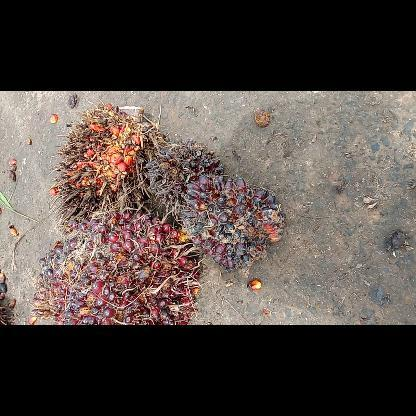TBS abnormal: (180, 172, 286, 272), (142, 138, 226, 214)
TBS masak: (30, 208, 202, 324)
Terlalu masak: (46, 102, 154, 236)
